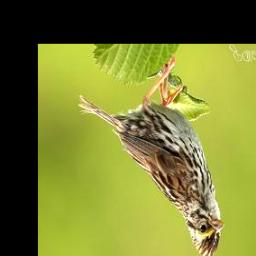Sparrow: (77, 53, 224, 256)
